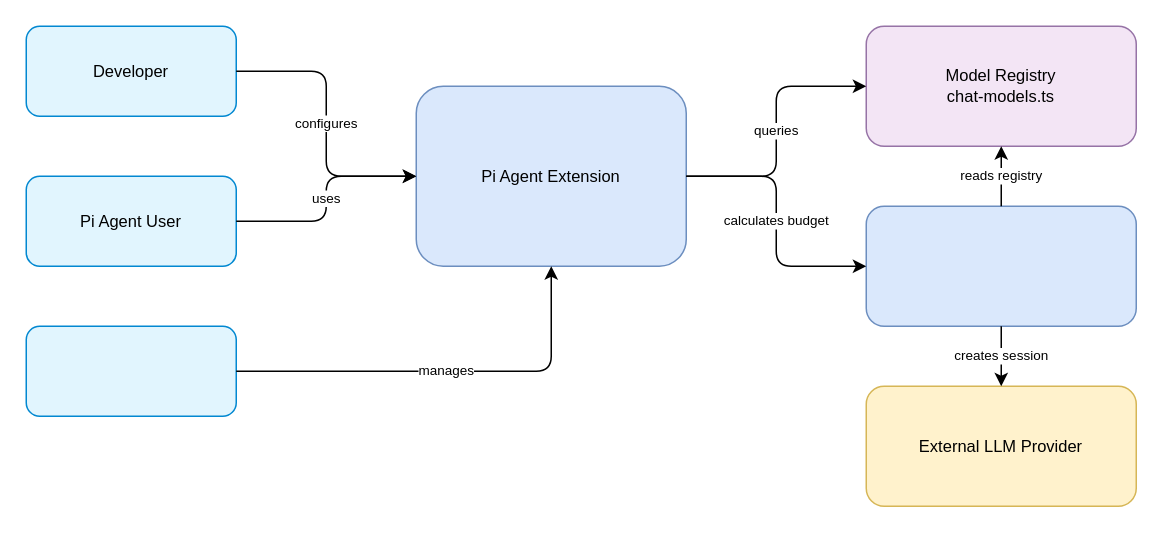
This 1163x533 diagram has some shape labels left out. Each missing label, with the centre of its shape:
Session Configurator: the point at 1000,265
System Admin: the point at 130,370
